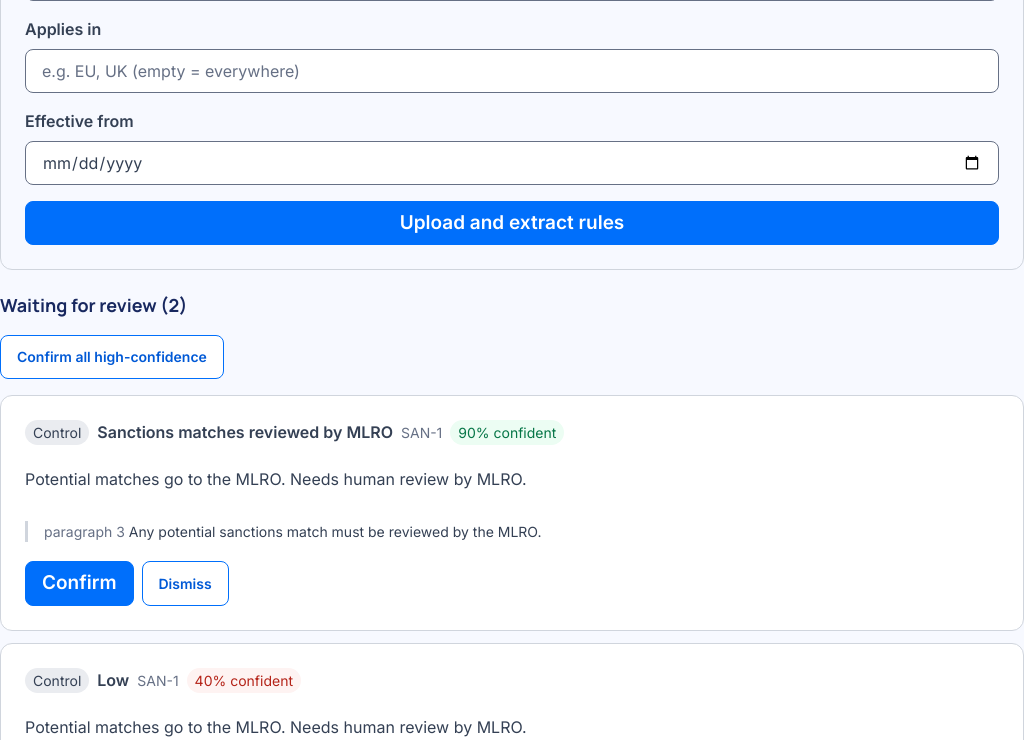
Test case: PolicyReviewPanel › reports what bulk confirm left for individual review
(page scrolled)
Step 1. Click the button "Confirm all high-confidence" → (112, 357), box [0,335,224,379]
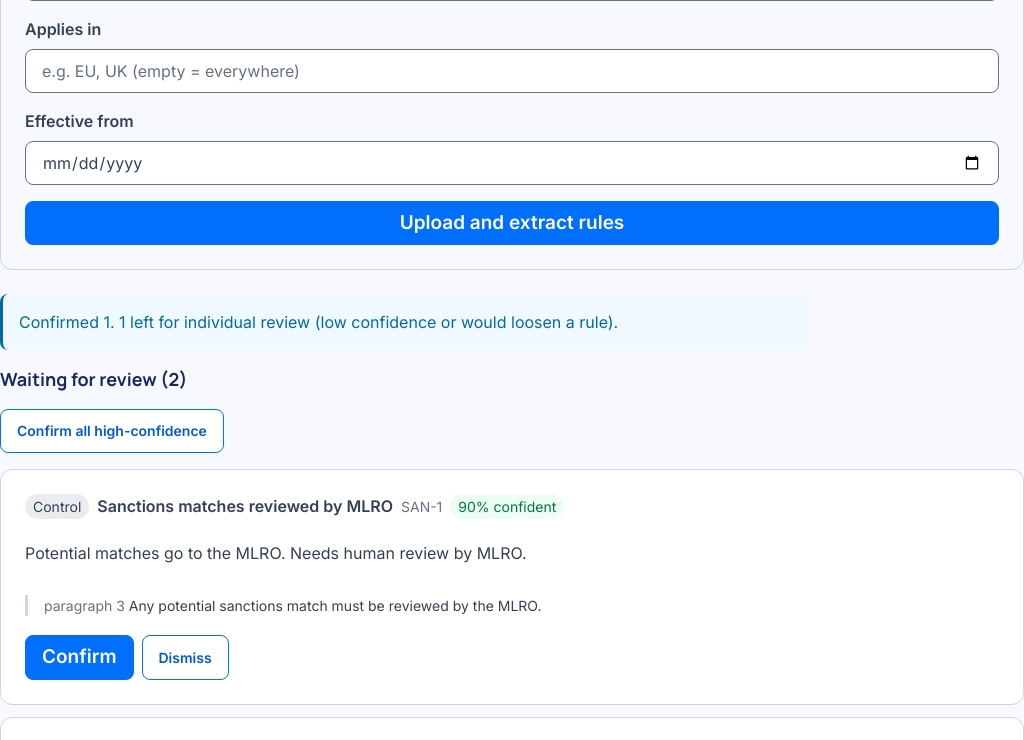
Now the text "Confirmed 1. 1 left for individual review" is shown, box [19,312,618,332]
